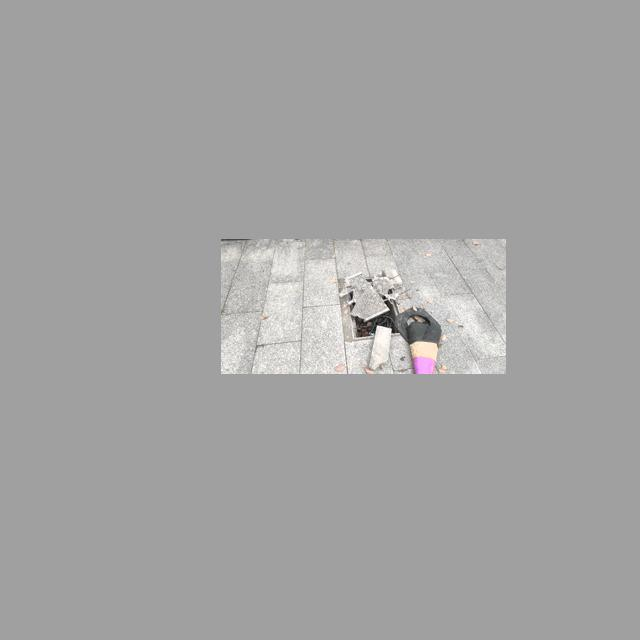broke: (346, 267, 404, 339)
